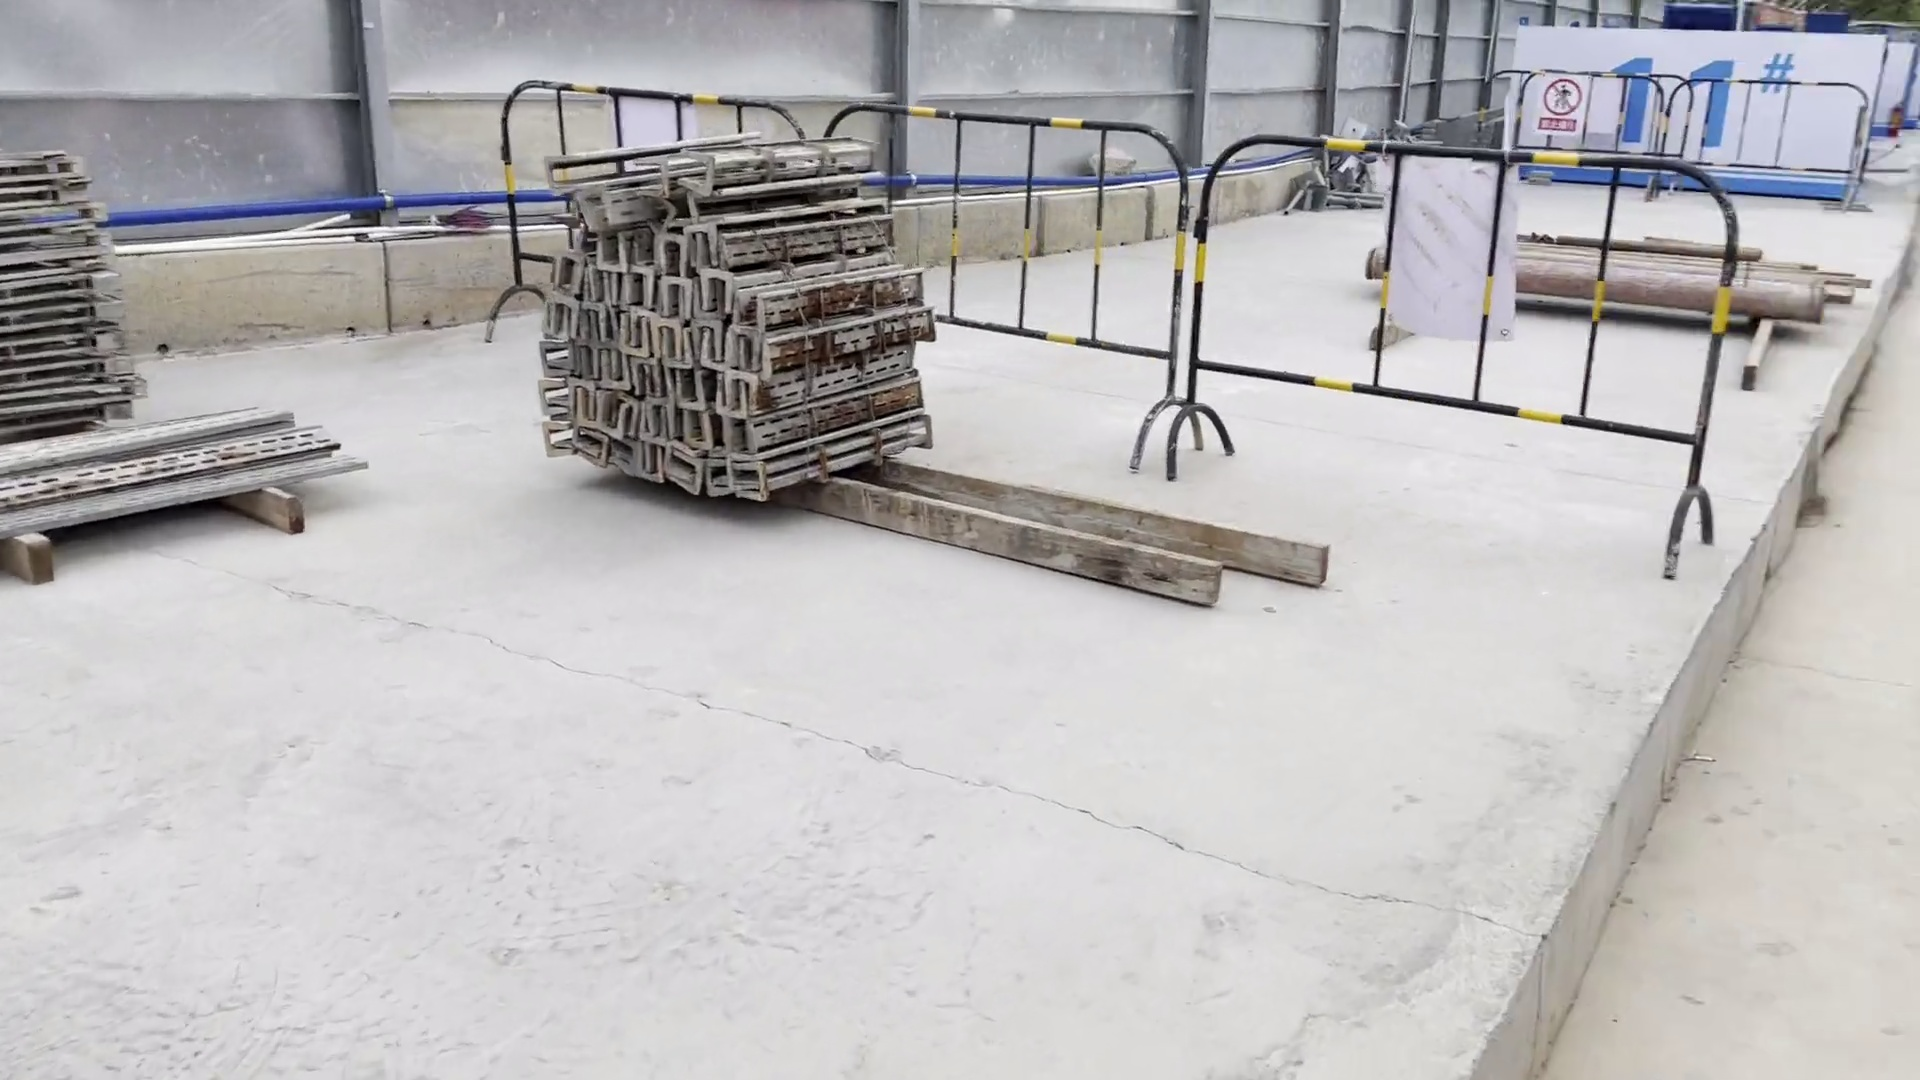fence: (471, 78, 1726, 468), (1473, 57, 1869, 216)
slogan: (1534, 65, 1606, 152)
